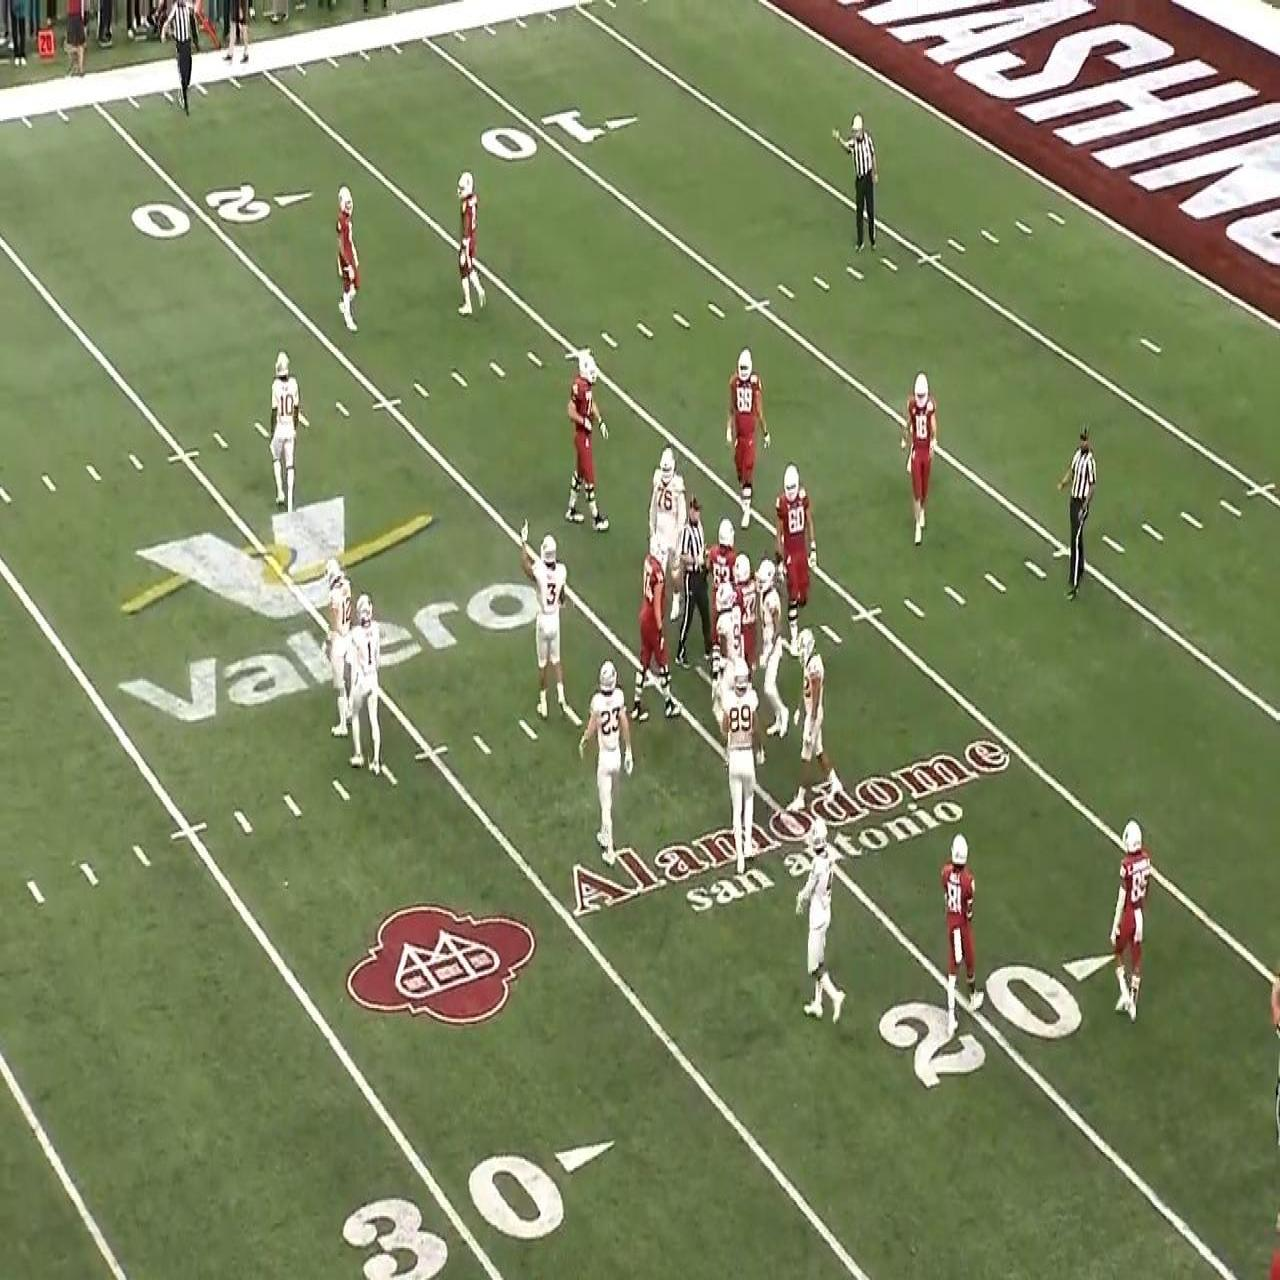10R: (481, 105, 636, 159)
20R: (879, 947, 1121, 1089), (129, 182, 314, 240)
30R: (341, 1133, 615, 1280)
